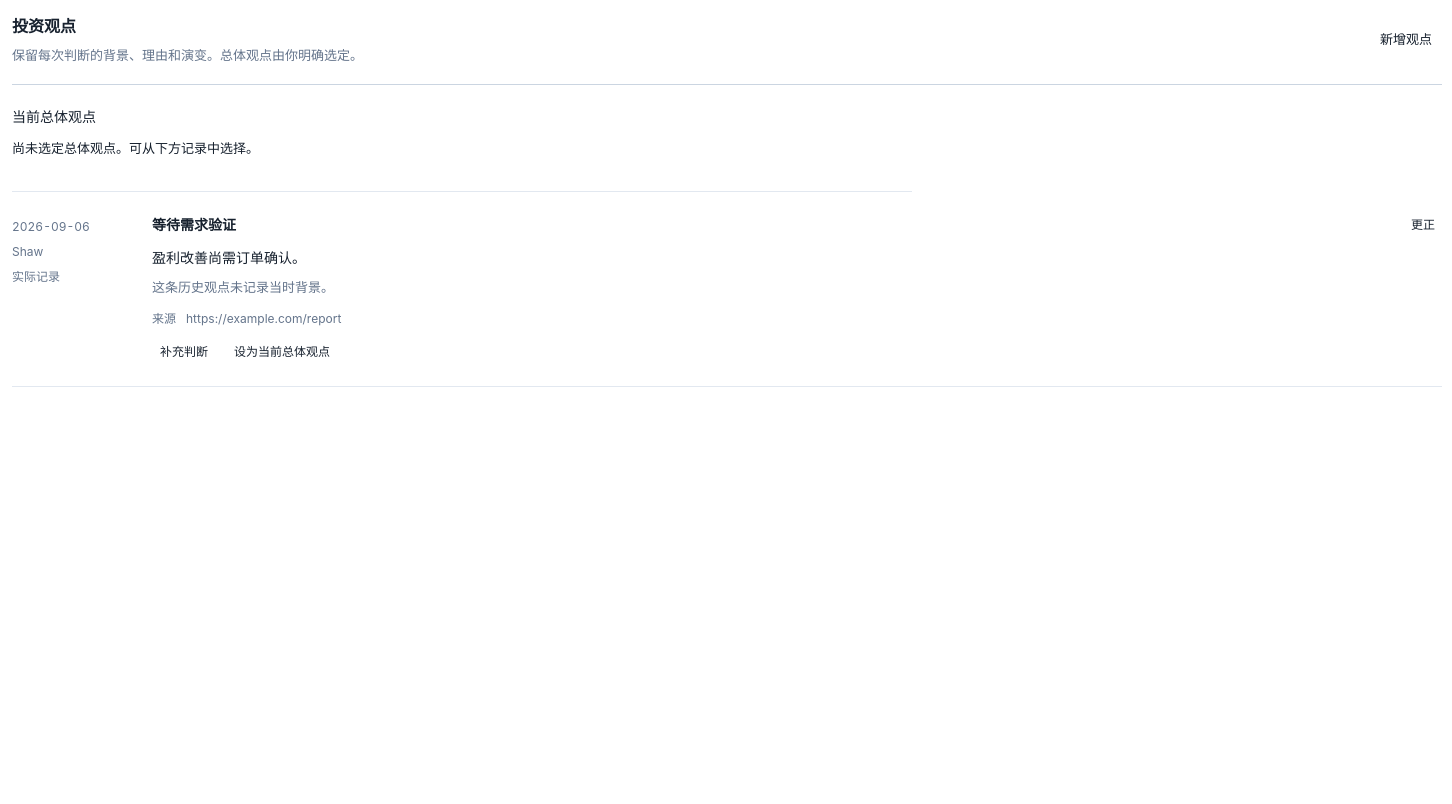
Test case: adds a new dated view without requiring a title or fixed research fields and leaves previous views intact
The width and height of the screenshot is (1452, 804).
Click the button "新增观点" at (1406, 40), box [1370, 24, 1442, 56]
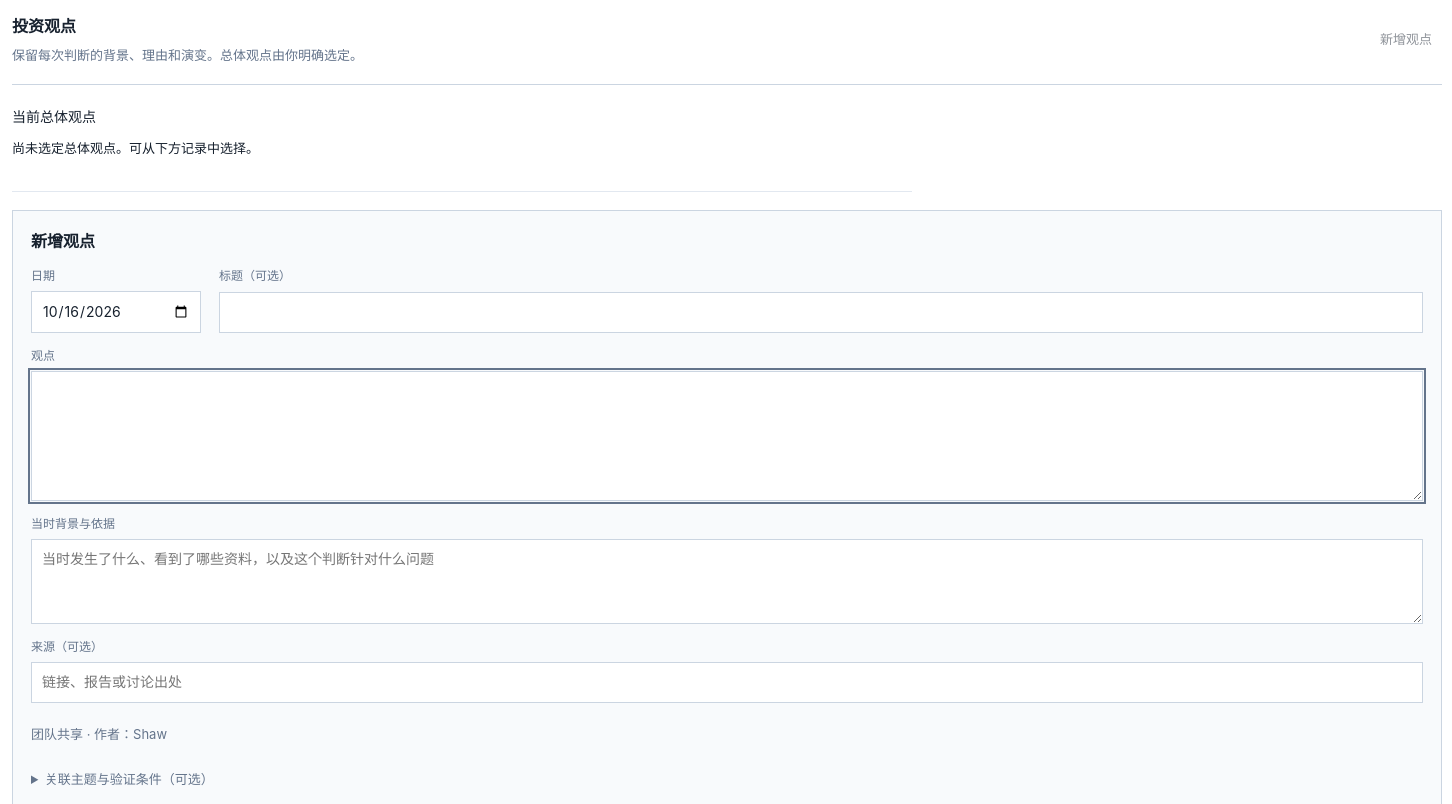
Type "2026-09-06" into the date field labelled "日期" at (116, 312), box [31, 291, 201, 333]
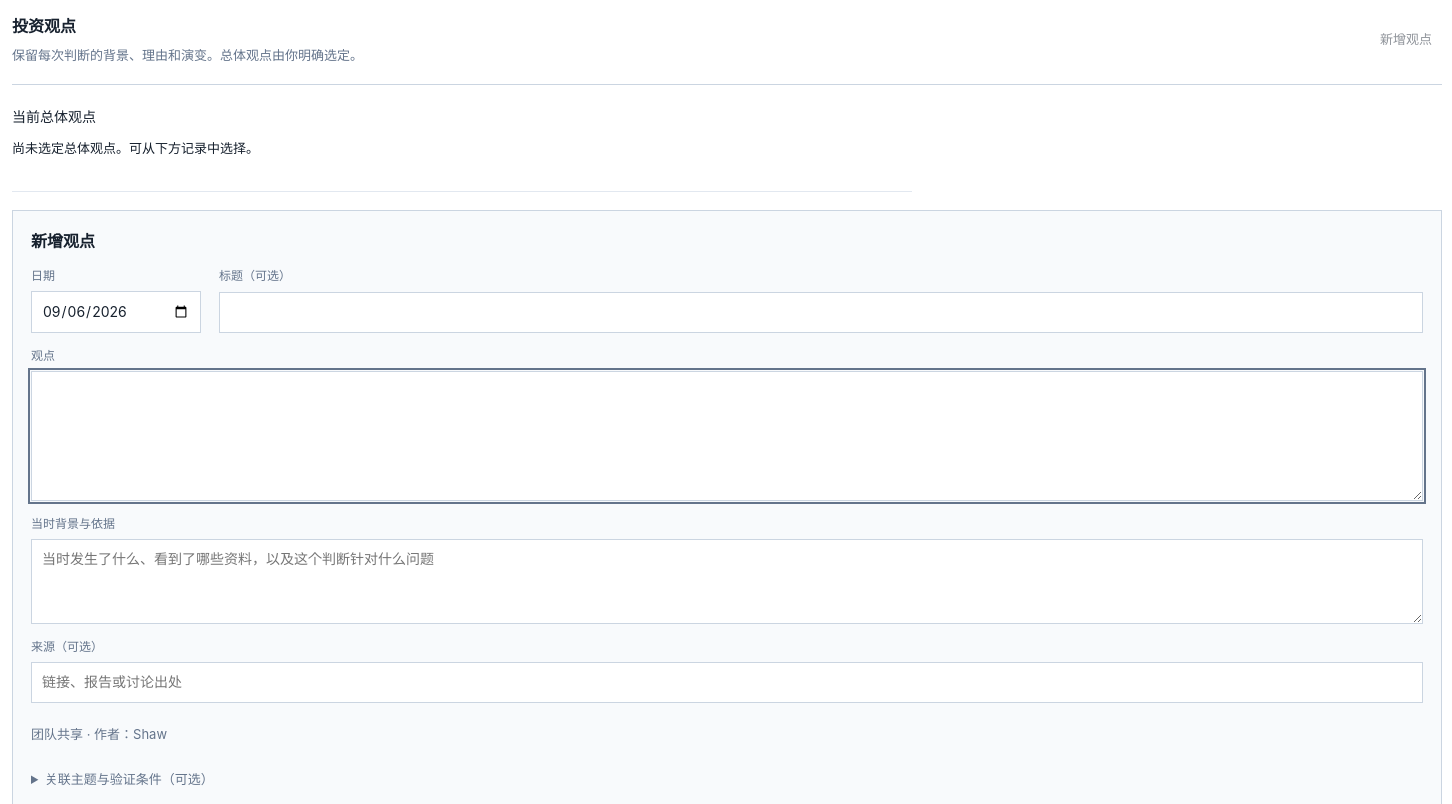
Type "订单开始改善，继续观察现金流。" into the text box labelled "观点" at (727, 436), box [31, 371, 1423, 501]
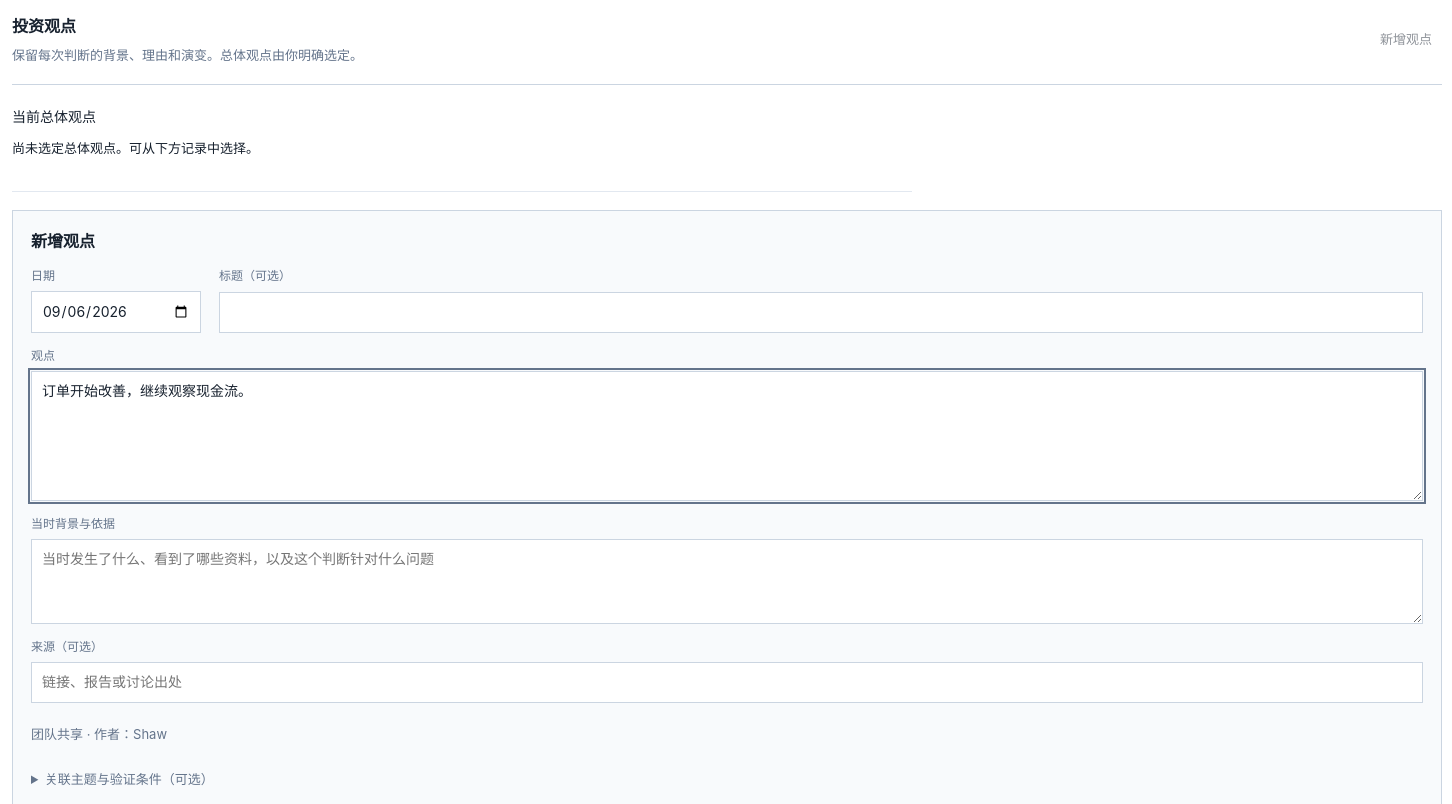
Type "季度订单披露已发布。" into the text box labelled "当时背景与依据" at (727, 582), box [31, 539, 1423, 624]
(page scrolled)
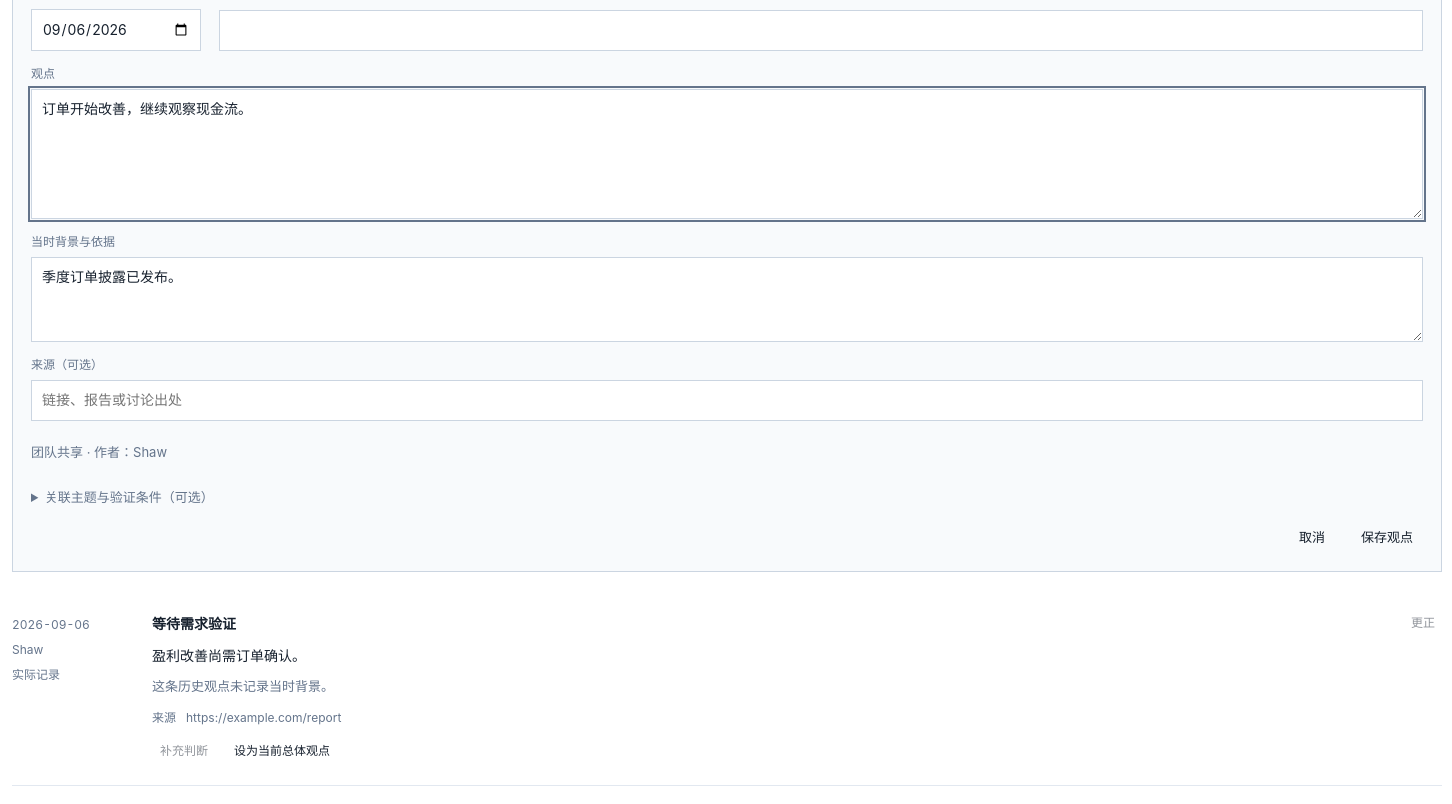
Click the button "保存观点" at (1387, 538), box [1351, 522, 1423, 553]
(page scrolled)
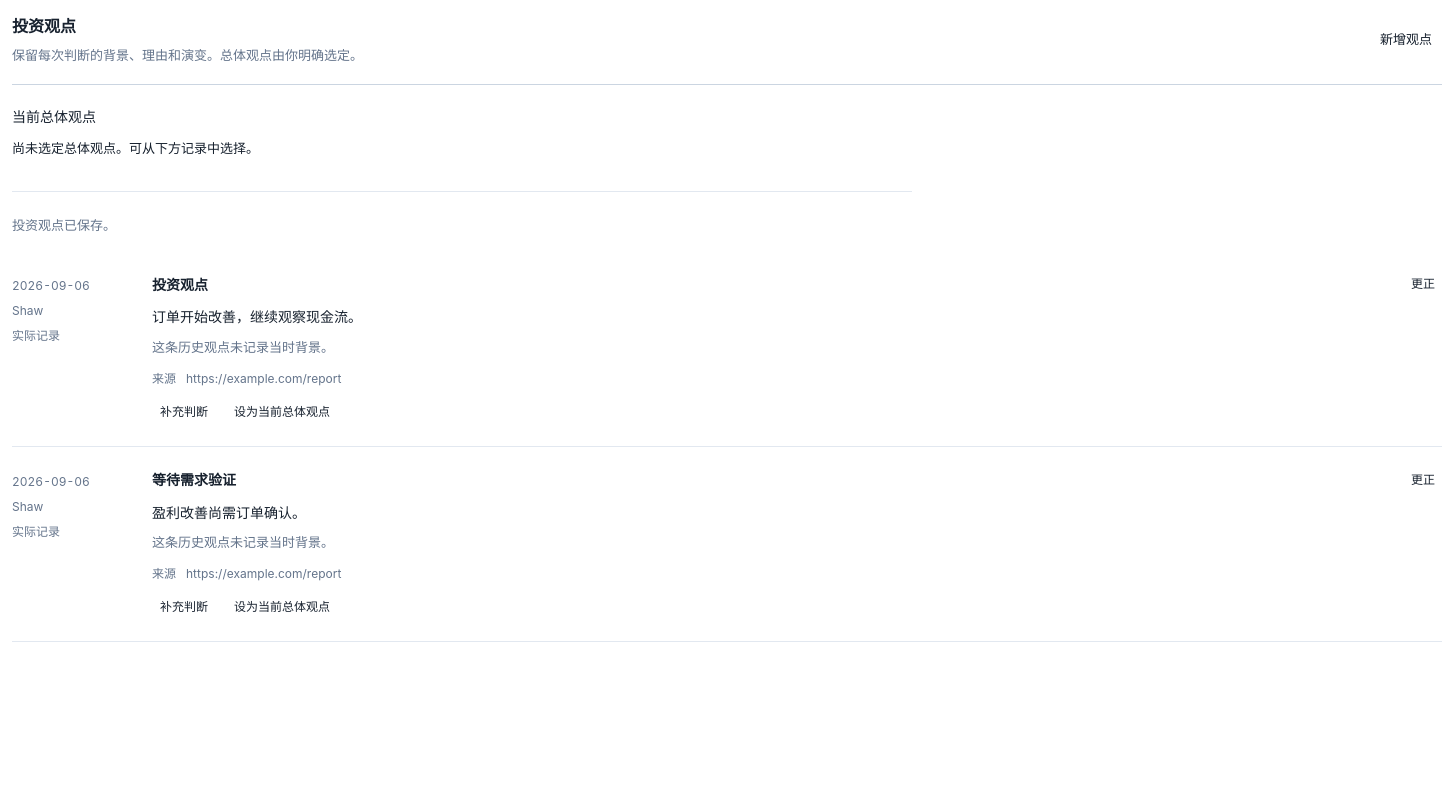
Check: the text "盈利改善尚需订单确认。" is shown, box [152, 504, 306, 521]
Check: the text "订单开始改善，继续观察现金流。" is shown, box [152, 308, 362, 326]
